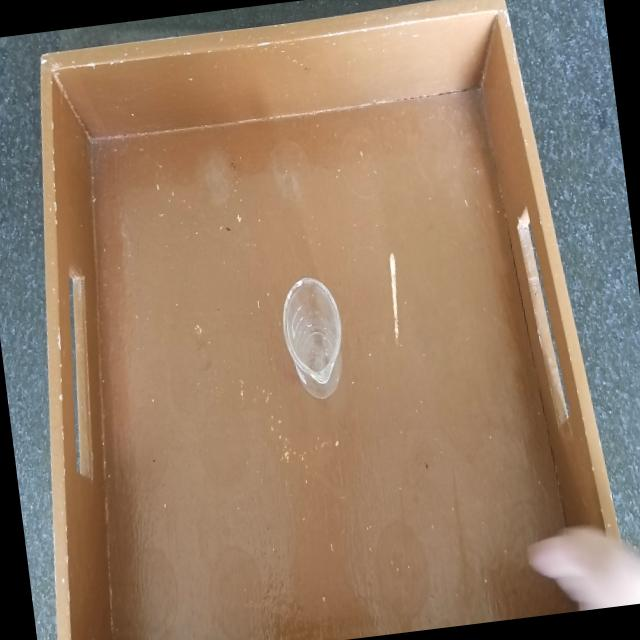beaker: (274, 269, 352, 407)
